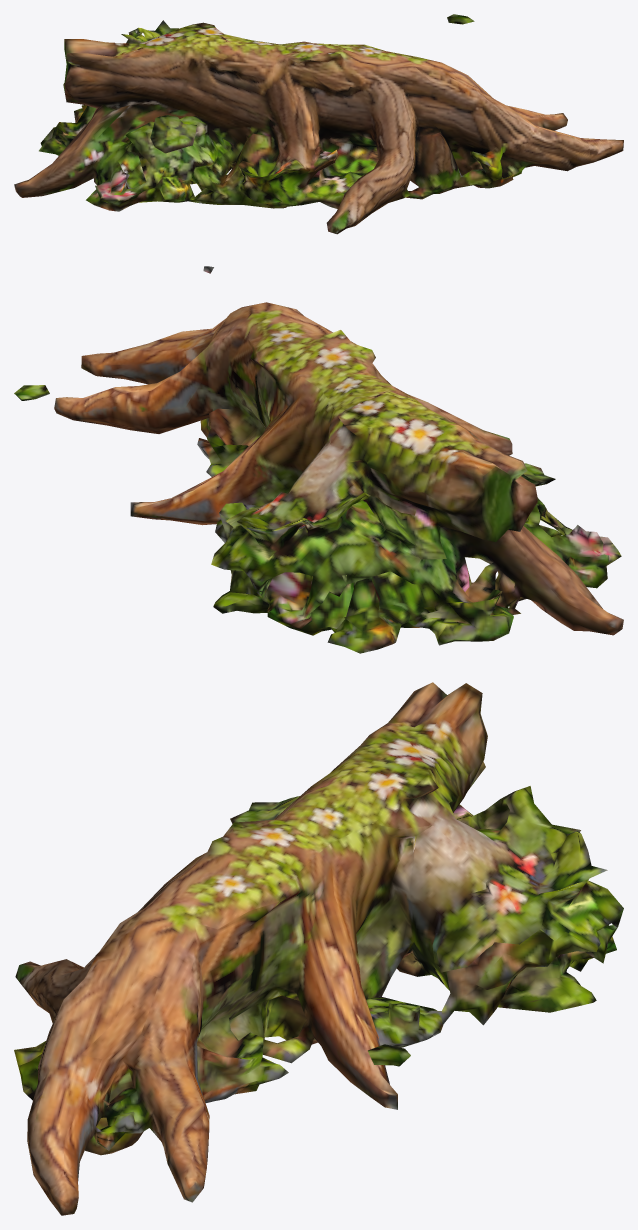
Rendered from SpringDecor_FirstRoom_FallenTree.fbx.
The picture shows the model from 3 angles, top to bottom: view 1: azimuth 30°, elevation 25°; view 2: azimuth 150°, elevation 25°; view 3: azimuth 270°, elevation 25°; orthographic projection. The views are drawn at different scales.
Visible parts, largest first — view 1: SpringDecor_FirstRoom_FallenTree_Mesh; view 2: SpringDecor_FirstRoom_FallenTree_Mesh; view 3: SpringDecor_FirstRoom_FallenTree_Mesh.
Boxes of the visible parts, x1,y1,x2,y2 form: SpringDecor_FirstRoom_FallenTree_Mesh: (14, 14, 623, 273); SpringDecor_FirstRoom_FallenTree_Mesh: (14, 302, 623, 653); SpringDecor_FirstRoom_FallenTree_Mesh: (14, 682, 623, 1215).
Bounding box in the file's own units: 6 × 1.93 × 3.94.
1 material, 1 textured.
